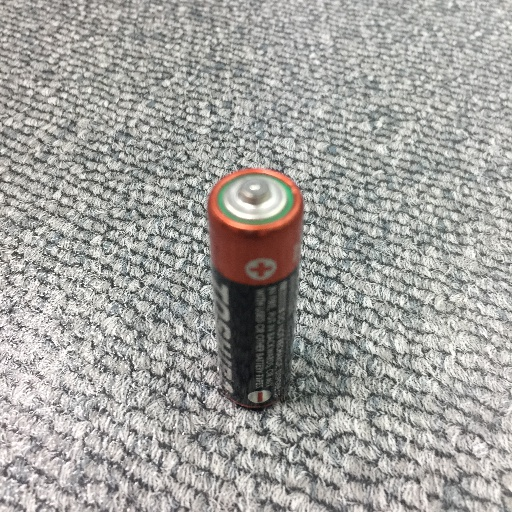Battery_0: (198, 153, 320, 433)
